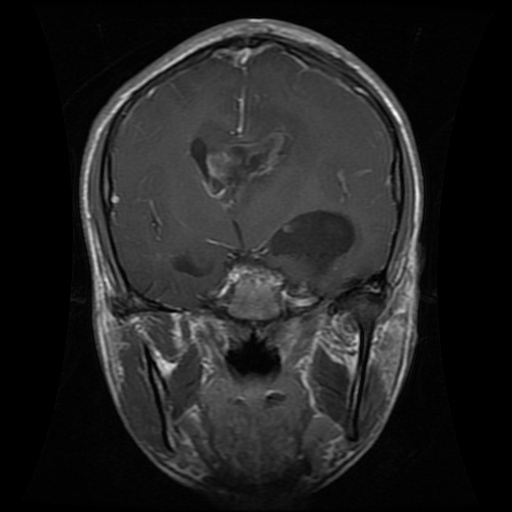glioma: (188, 108, 303, 209)
